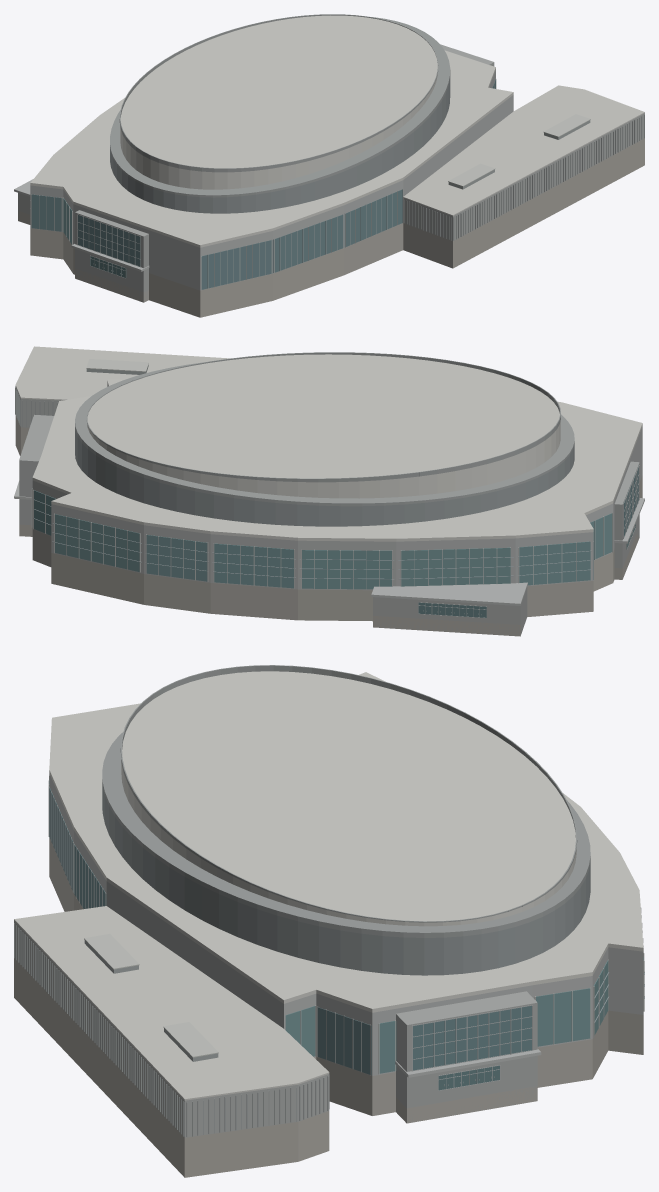
Rendered from matthew-knight-arena-site.glb.
3 renders of one model, top to bottom at view 1: azimuth 30°, elevation 25°; view 2: azimuth 150°, elevation 25°; view 3: azimuth 270°, elevation 25°, orthographic. The views are drawn at different scales.
Parts seen in each view (by area): view 1: context-b0074; view 2: context-b0074; view 3: context-b0074.
Part boxes in pixels (x1,y1,x2,y2): context-b0074: (14,14,644,317); context-b0074: (14,346,644,636); context-b0074: (14,665,644,1177).
Bounding box in the file's own units: 181 × 35.48 × 121.
